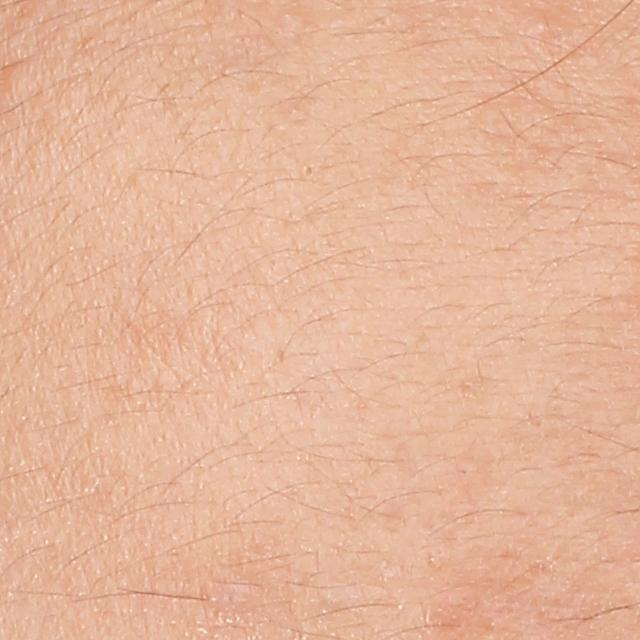comedo: (297, 160, 320, 183)
